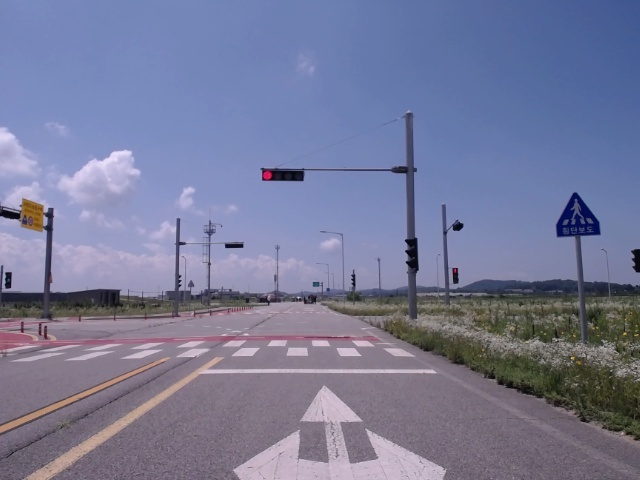red_4: (262, 170, 304, 181)
